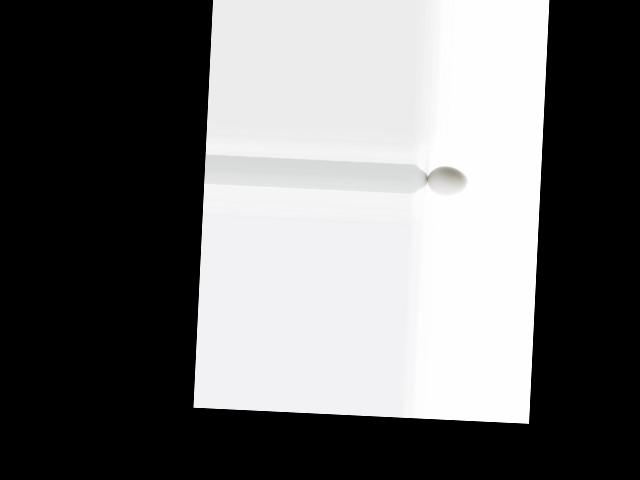egg: (426, 165, 467, 196)
